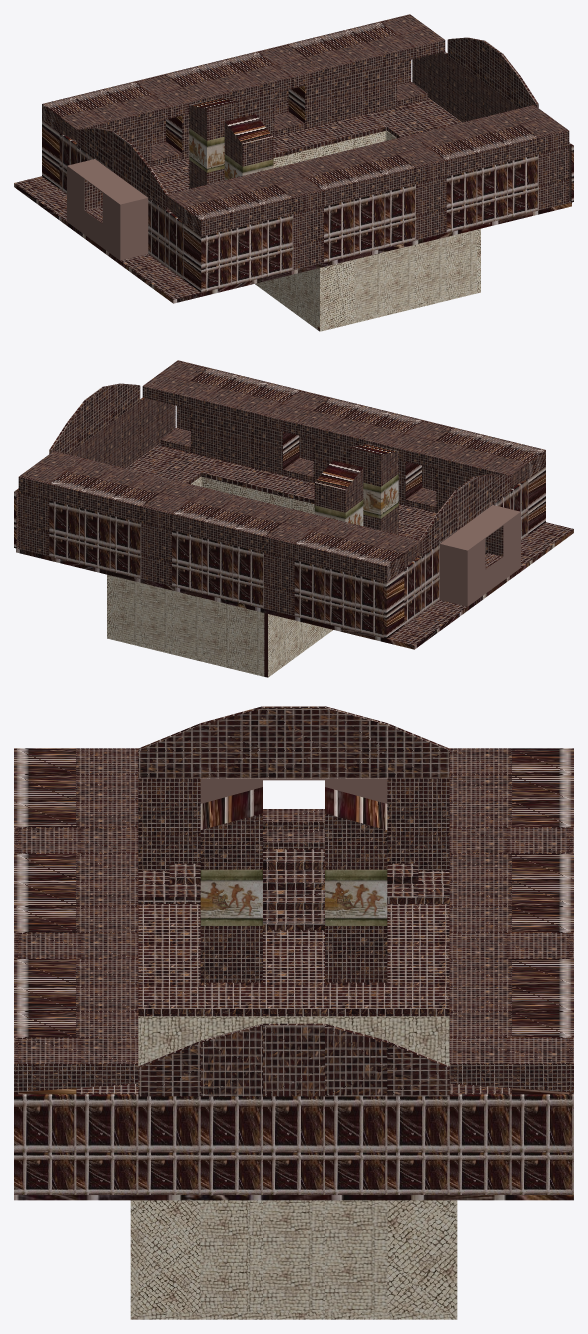
The model's file is SwimmingPoolRoom.fbx.
The picture shows the model from 3 angles, top to bottom: view 1: azimuth 30°, elevation 25°; view 2: azimuth 150°, elevation 25°; view 3: azimuth 270°, elevation 25°; orthographic projection. The views are drawn at different scales.
Visible parts, largest first — view 1: SwimmingPool, SwimmingPoolRoomWallLeft, SwimmingPoolRoomFloor, SwimmingPoolRoomWallLeft.003, SwimmingPoolRoomWallLeft.001, SwimmingPoolRoomWallRight.003, SwimmingPoolRoomWallRight.001, SwimmingPoolRoomWallEntrance, SwimmingPoolRoomWallRight.002, SwimmingPoolRoomWallLeftBt.002, SwimmingPoolRoomWallLeftBt, SwimmingPoolRoomWallLeftBt.001 (+12 smaller); view 2: SwimmingPool, SwimmingPoolRoomWallRight.001, SwimmingPoolRoomFloor, SwimmingPoolRoomWallRight.003, SwimmingPoolRoomWallRight.002, SwimmingPoolRoomWallLeft.003, SwimmingPoolRoomWallLeft, SwimmingPoolRoomWallEntrance, SwimmingPoolRoomWallLeft.001, SwimmingPoolRoomWallRightBt.002, SwimmingPoolRoomWallRightBt.001, SwimmingPoolRoomWallRightBt (+12 smaller); view 3: SwimmingPool, SwimmingPoolRoomWallB1Back, SwimmingPoolRoomFloor, SwimmingPoolRoomWallB0Back, SwimmingPoolRoomWallCeilingFront.001, SwimmingPoolRoomWallCeilingFront, SwimmingPoolRoomColumn.001, SwimmingPoolRoomColumn, SwimmingPoolRoomWallLeft.003, SwimmingPoolRoomWallRight.003, SwimmingPoolRoomWallLeft.001, SwimmingPoolRoomWallLeft (+14 smaller).
Boxes of the visible parts, x1=… form: SwimmingPool: x1=255, y1=130, x2=480, y2=331; SwimmingPoolRoomWallLeft: x1=166, y1=172, x2=293, y2=292; SwimmingPoolRoomFloor: x1=14, y1=97, x2=571, y2=303; SwimmingPoolRoomWallLeft.003: x1=411, y1=112, x2=538, y2=232; SwimmingPoolRoomWallLeft.001: x1=289, y1=142, x2=415, y2=262; SwimmingPoolRoomWallRight.003: x1=287, y1=21, x2=414, y2=129; SwimmingPoolRoomWallRight.001: x1=42, y1=81, x2=169, y2=188; SwimmingPoolRoomWallEntrance: x1=67, y1=159, x2=148, y2=260; SwimmingPoolRoomWallRight.002: x1=165, y1=51, x2=291, y2=158; SwimmingPoolRoomWallLeftBt.002: x1=503, y1=105, x2=569, y2=210; SwimmingPoolRoomWallLeftBt: x1=258, y1=165, x2=323, y2=270; SwimmingPoolRoomWallLeftBt.001: x1=381, y1=135, x2=446, y2=240; SwimmingPool: x1=107, y1=476, x2=332, y2=677; SwimmingPoolRoomWallRight.001: x1=294, y1=518, x2=421, y2=638; SwimmingPoolRoomFloor: x1=16, y1=443, x2=573, y2=649; SwimmingPoolRoomWallRight.003: x1=49, y1=458, x2=176, y2=578; SwimmingPoolRoomWallRight.002: x1=172, y1=488, x2=298, y2=608; SwimmingPoolRoomWallLeft.003: x1=173, y1=367, x2=300, y2=475; SwimmingPoolRoomWallLeft: x1=418, y1=427, x2=545, y2=534; SwimmingPoolRoomWallEntrance: x1=439, y1=505, x2=520, y2=606; SwimmingPoolRoomWallLeft.001: x1=296, y1=397, x2=422, y2=504; SwimmingPoolRoomWallRightBt.002: x1=18, y1=451, x2=84, y2=556; SwimmingPoolRoomWallRightBt.001: x1=141, y1=481, x2=206, y2=586; SwimmingPoolRoomWallRightBt: x1=264, y1=511, x2=329, y2=616; SwimmingPool: x1=130, y1=1016, x2=457, y2=1319; SwimmingPoolRoomWallB1Back: x1=14, y1=1094, x2=573, y2=1152; SwimmingPoolRoomFloor: x1=14, y1=904, x2=573, y2=1200; SwimmingPoolRoomWallB0Back: x1=14, y1=1152, x2=573, y2=1194; SwimmingPoolRoomWallCeilingFront.001: x1=138, y1=1023, x2=449, y2=1096; SwimmingPoolRoomWallCeilingFront: x1=138, y1=706, x2=449, y2=778; SwimmingPoolRoomColumn.001: x1=325, y1=787, x2=387, y2=982; SwimmingPoolRoomColumn: x1=200, y1=787, x2=262, y2=982; SwimmingPoolRoomWallLeft.003: x1=14, y1=959, x2=138, y2=1094; SwimmingPoolRoomWallRight.003: x1=449, y1=959, x2=573, y2=1094; SwimmingPoolRoomWallLeft.001: x1=14, y1=853, x2=138, y2=932; SwimmingPoolRoomWallLeft: x1=14, y1=748, x2=138, y2=827.
Size of the model in its own units: 2612 by 1225 by 1800.
